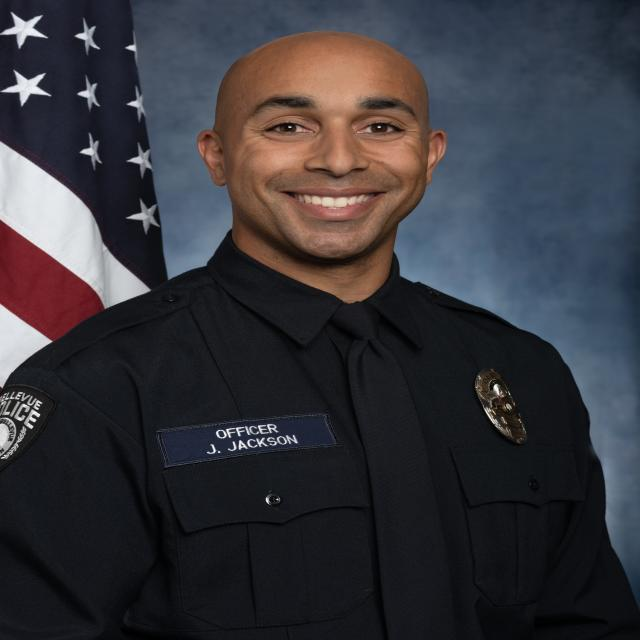police: (26, 21, 611, 640)
